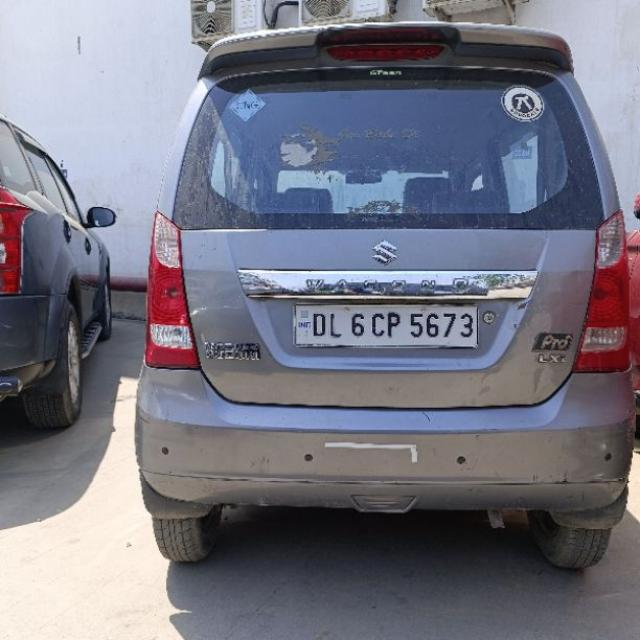license_plate: (291, 302, 479, 348)
